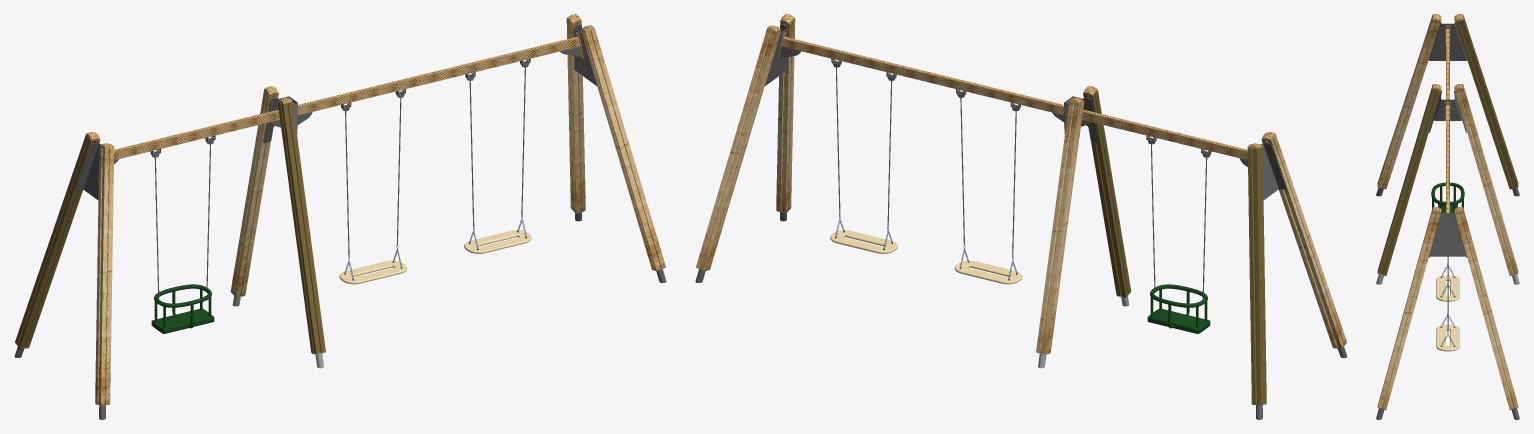
Rendered from swing.FBX.
The picture shows the model from 3 angles, left to right: view 1: azimuth 30°, elevation 25°; view 2: azimuth 150°, elevation 25°; view 3: azimuth 270°, elevation 25°; orthographic projection. The views are drawn at different scales.
Parts seen in each view (by area): view 1: 3dSolid9, 3dSolid15, 3dSolid1, 3dSolid13, 3dSolid11, 3dSolid16, 3dSolid2, 3dSolid14, Loft01, Loft119, 3dSolid20, ChamferBox (+2 smaller); view 2: 3dSolid11, 3dSolid16, 3dSolid2, 3dSolid13, 3dSolid9, 3dSolid15, 3dSolid1, 3dSolid14, Loft01, Loft119, 3dSolid20, ChamferBox (+1 smaller); view 3: 3dSolid1, 3dSolid2, 3dSolid15, 3dSolid16, 3dSolid9, 3dSolid11, 3dSolid, 3dSolid20, 3dSolid21, Loft119, Loft01, 3dSolid13 (+3 smaller).
Boxes of the visible parts, x1,y1,x2,y2 form: 3dSolid9: (95, 147, 114, 404); 3dSolid15: (278, 102, 325, 353); 3dSolid1: (581, 29, 665, 270); 3dSolid13: (297, 32, 583, 115); 3dSolid11: (15, 135, 99, 348); 3dSolid16: (230, 90, 278, 297); 3dSolid2: (566, 19, 585, 213); 3dSolid14: (114, 102, 293, 160); Loft01: (339, 260, 407, 284); Loft119: (464, 230, 531, 253); 3dSolid20: (75, 143, 118, 199); ChamferBox: (151, 309, 214, 333); 3dSolid11: (1247, 147, 1266, 404); 3dSolid16: (1036, 102, 1083, 353); 3dSolid2: (696, 29, 780, 270); 3dSolid13: (778, 32, 1064, 115); 3dSolid9: (1262, 135, 1346, 348); 3dSolid15: (1083, 90, 1131, 297); 3dSolid1: (776, 19, 795, 213); 3dSolid14: (1068, 102, 1247, 160); Loft01: (954, 260, 1022, 284); Loft119: (830, 230, 897, 253); 3dSolid20: (1239, 143, 1286, 199); ChamferBox: (1147, 309, 1210, 333); 3dSolid1: (1377, 209, 1440, 409); 3dSolid2: (1455, 209, 1518, 409); 3dSolid15: (1377, 86, 1440, 275); 3dSolid16: (1455, 86, 1518, 275); 3dSolid9: (1377, 16, 1440, 188); 3dSolid11: (1455, 16, 1518, 188); 3dSolid: (1428, 212, 1467, 257); 3dSolid20: (1429, 22, 1466, 60); 3dSolid21: (1429, 90, 1466, 132); Loft119: (1436, 325, 1459, 351); Loft01: (1436, 275, 1459, 301); 3dSolid13: (1445, 101, 1450, 212).
Size of the model in its own units: 5694 by 2333 by 1531.
10 materials, 1 textured.
